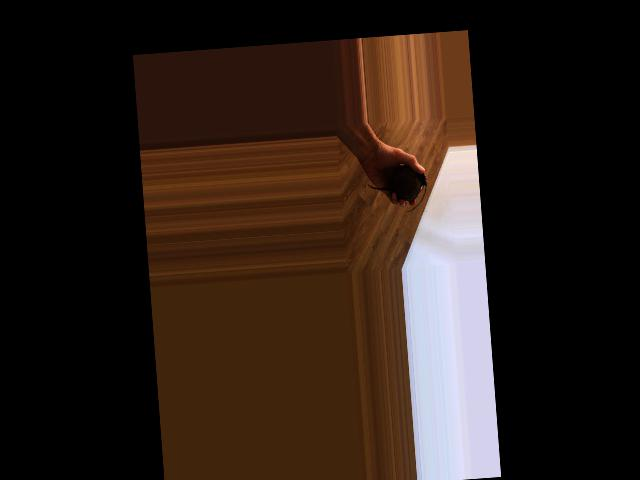beet: (366, 164, 429, 215)
